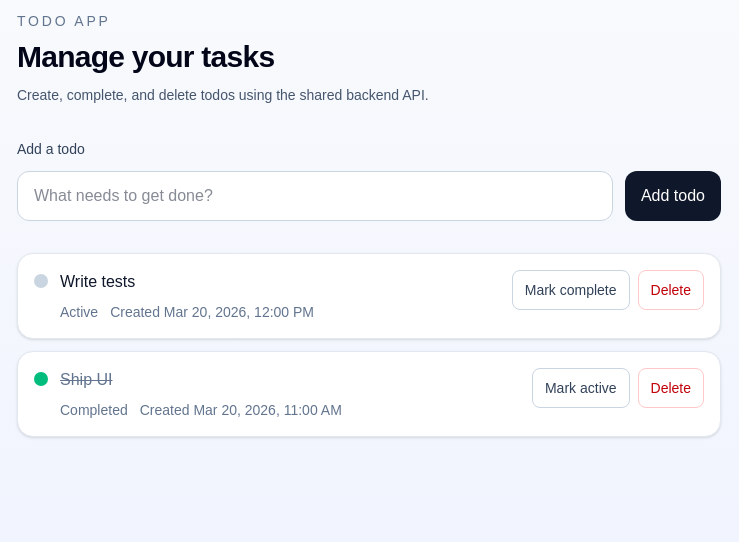
Scenario: TodoApp › dismisses the error banner when clicking Dismiss
Expected: the text "Write tests" is shown, x1=60 y1=273 x2=135 y2=290
Step 1. Click the button "Mark complete" → point(571, 290), box x1=512 y1=270 x2=630 y2=310
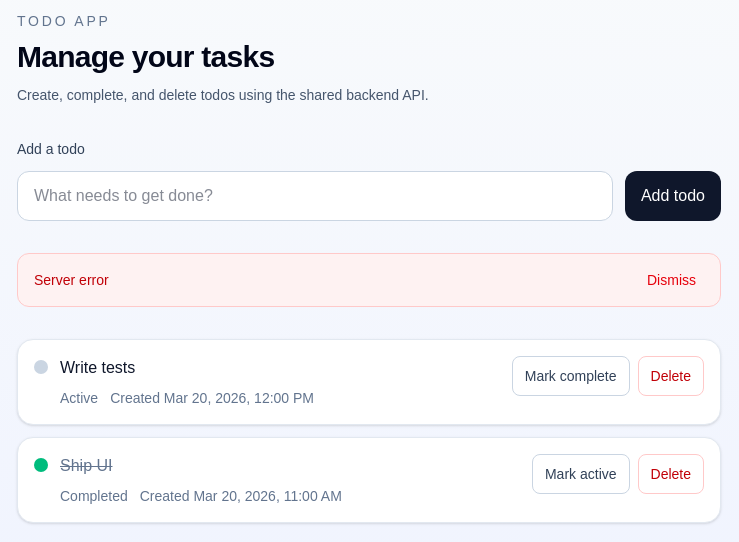
Expected: the text "Server error" is shown, x1=34 y1=270 x2=109 y2=290
Step 2. Click the button with aria-label "Dismiss error" → point(672, 280), box x1=639 y1=266 x2=704 y2=294
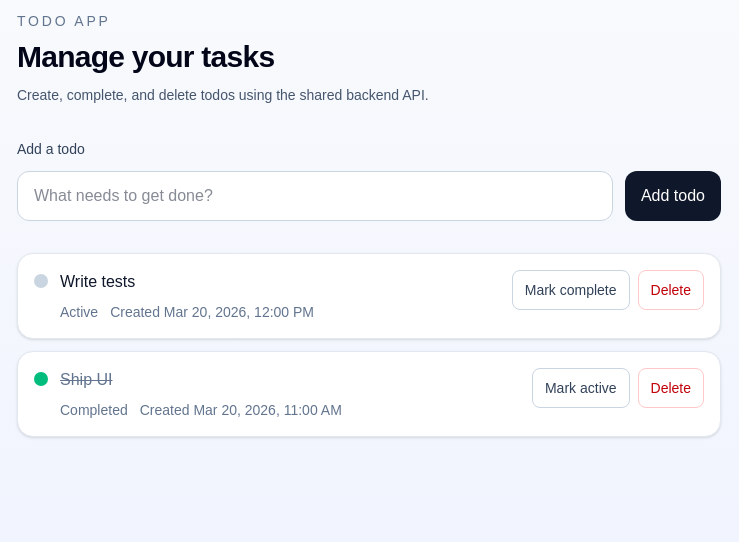
Expected: the text "Server error" is gone
